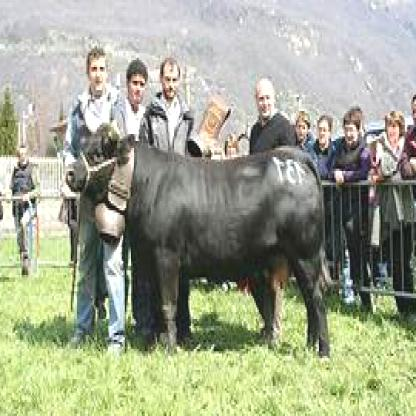cow: (64, 122, 330, 360)
